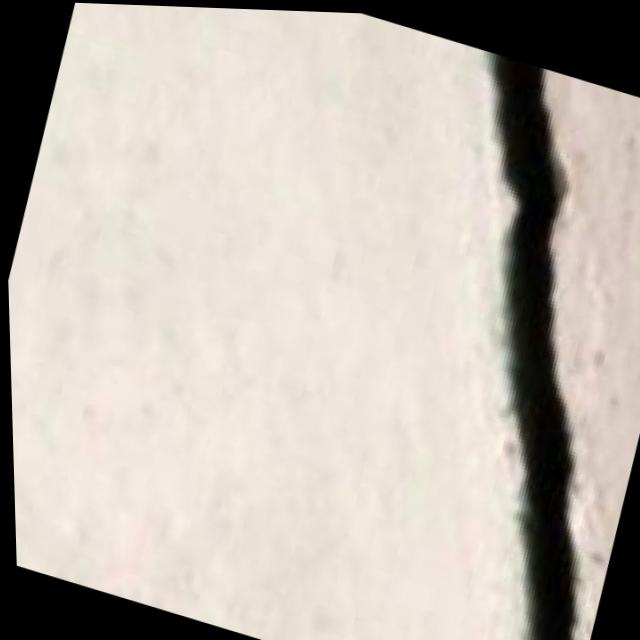Crack: (302, 37, 640, 640)
